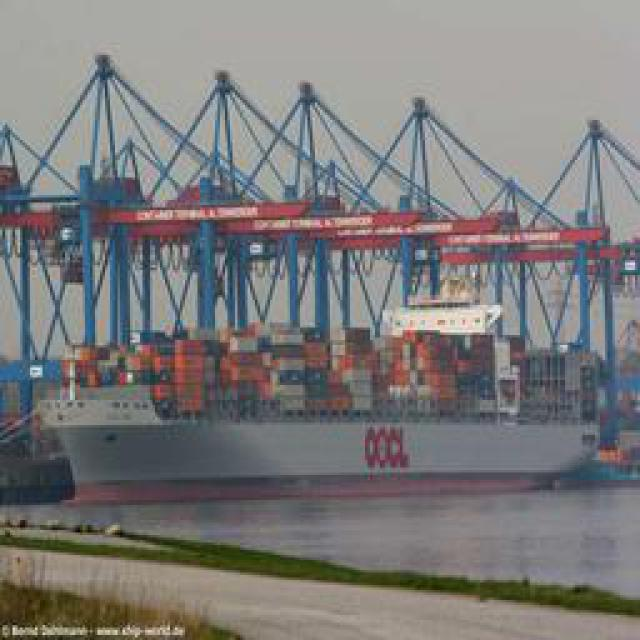Ship: (24, 66, 637, 506)
